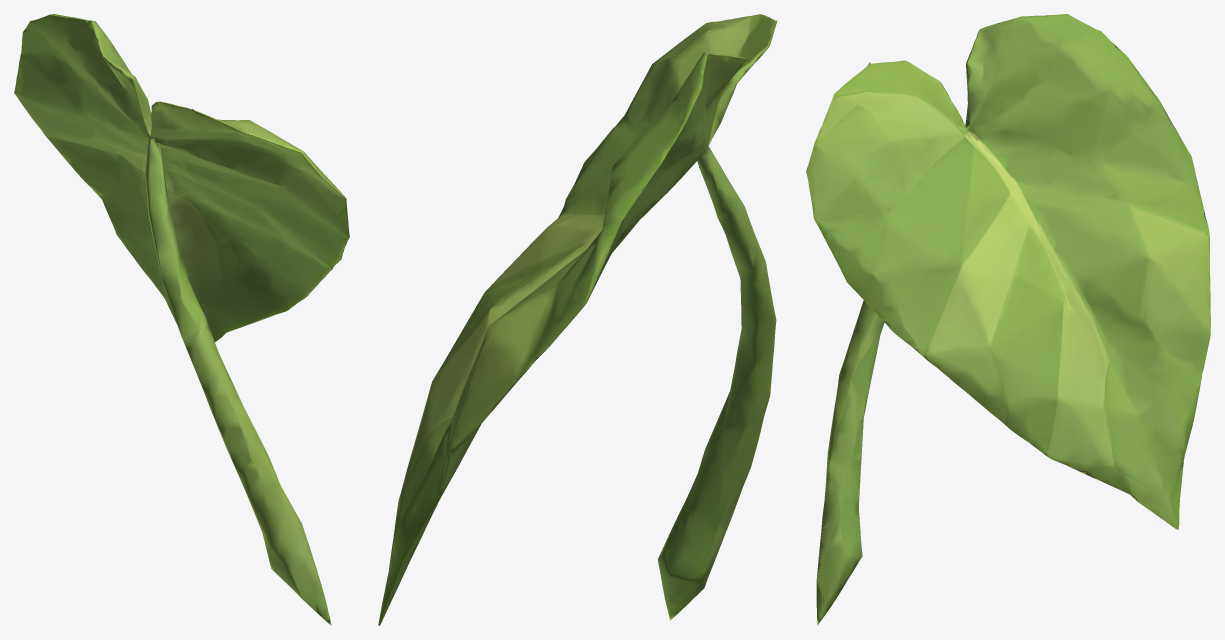
File: sc_leaf_young.glb
The picture shows the model from 3 angles, left to right: view 1: azimuth 30°, elevation 25°; view 2: azimuth 150°, elevation 25°; view 3: azimuth 270°, elevation 25°; orthographic projection. The views are drawn at different scales.
Visible parts, largest first — view 1: tripo_node_2b98ade2-e4f8-4191-a31c-b98ae46dc33f; view 2: tripo_node_2b98ade2-e4f8-4191-a31c-b98ae46dc33f; view 3: tripo_node_2b98ade2-e4f8-4191-a31c-b98ae46dc33f.
Part boxes in pixels (bbox=[...]): tripo_node_2b98ade2-e4f8-4191-a31c-b98ae46dc33f: bbox=[14, 14, 349, 625]; tripo_node_2b98ade2-e4f8-4191-a31c-b98ae46dc33f: bbox=[378, 14, 777, 625]; tripo_node_2b98ade2-e4f8-4191-a31c-b98ae46dc33f: bbox=[806, 14, 1210, 625].
Size of the model in its own units: 0.4321 by 1 by 0.6722.
1 material, 1 textured.
